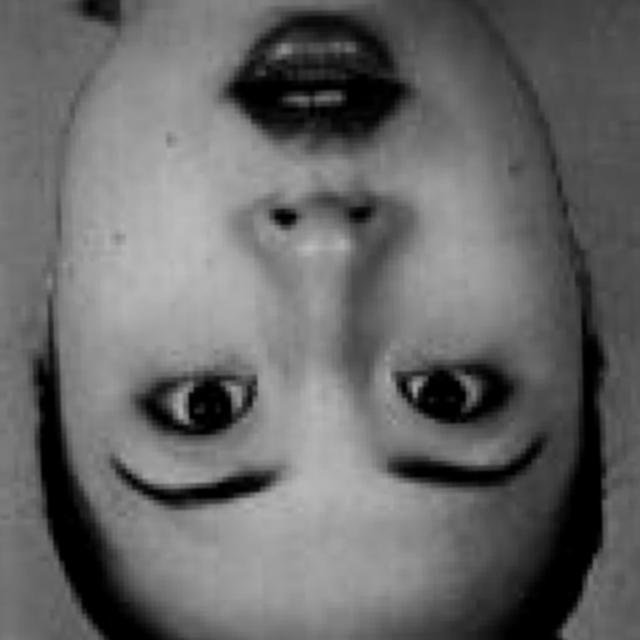surprise: (76, 0, 588, 606)
